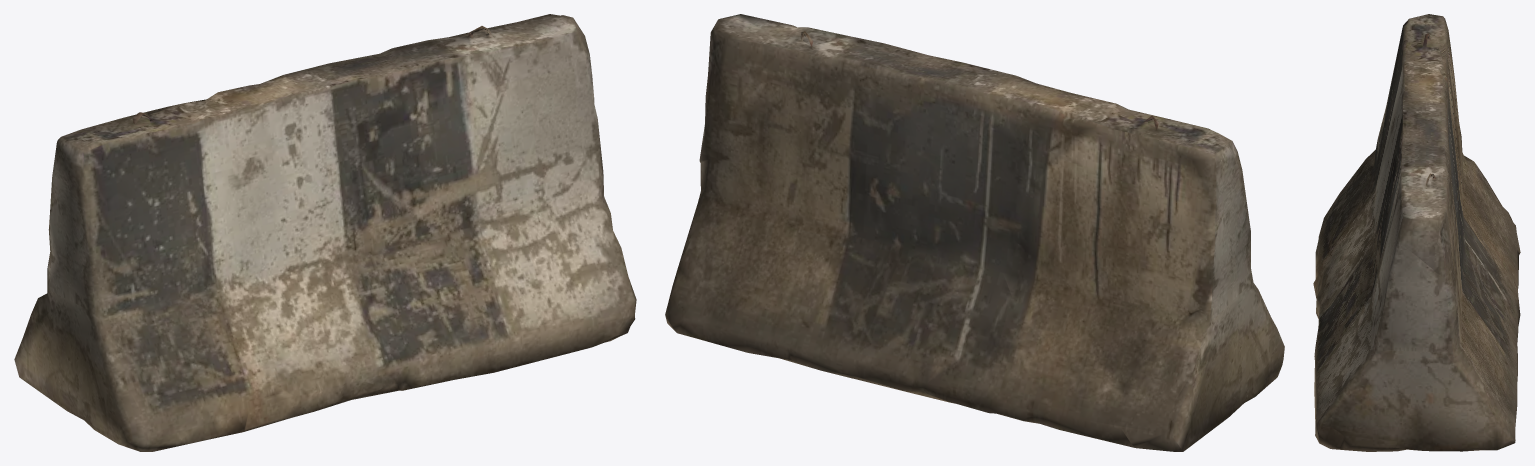
Rendered from concrete_road_barrier.glb.
The picture shows the model from 3 angles, left to right: view 1: azimuth 30°, elevation 25°; view 2: azimuth 150°, elevation 25°; view 3: azimuth 270°, elevation 25°; orthographic projection. The views are drawn at different scales.
Visible parts, largest first — view 1: concrete_road_barrier; view 2: concrete_road_barrier; view 3: concrete_road_barrier.
Boxes of the visible parts, x1,y1,x2,y2 form: concrete_road_barrier: [14, 14, 636, 451]; concrete_road_barrier: [665, 14, 1284, 451]; concrete_road_barrier: [1313, 14, 1520, 451].
Bounding box in the file's own units: 1.54 × 0.8304 × 0.6379.
1 material, 1 textured.
